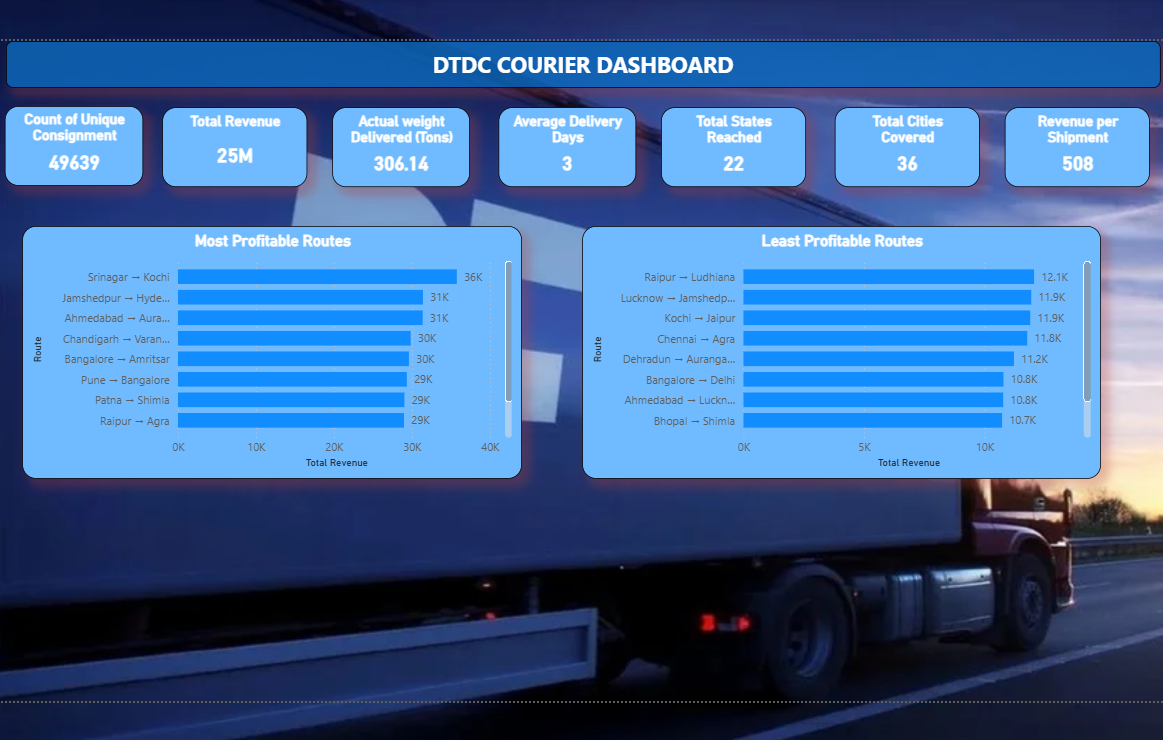

Layout of this report page (visuals, bound fields, positions):
{"tool":"powerbi","page":{"name":"Page 2","canvas":[1280,720],"ordinal":1},"visuals":[{"type":"textbox","box":[10.5,0,1260.8,51],"z":0},{"type":"card","title":"Count of Unique Consignment","fields":{"Values":["CountNonNull(Dataset_Generator_for_DTDC.Consignment No)"]},"box":[9.6,71,151.5,87.4],"z":1000},{"type":"card","title":"Actual weight Delivered (Tons)","fields":{"Values":["Dataset_Generator_for_DTDC.Actual weight in ton"]},"box":[367.2,72.3,150.1,87.4],"z":2000},{"type":"card","title":"Average Delivery Days","fields":{"Values":["Avg(Dataset_Generator_for_DTDC.Delivery Days)"]},"box":[548.7,72.3,150.1,87.4],"z":3000},{"type":"card","title":"Total States Reached","fields":{"Values":["Count(Dataset_Generator_for_DTDC.Sender State)"]},"box":[726.1,72.3,158.3,87.4],"z":4000},{"type":"card","title":"Total Cities Covered","fields":{"Values":["Count(Dataset_Generator_for_DTDC.Sender City)"]},"box":[915.8,72.3,158.3,87.4],"z":5000},{"type":"card","title":"Revenue per Shipment","fields":{"Values":["Dataset_Generator_for_DTDC.Revenue per Shipment"]},"box":[1101.4,72.9,158.6,87.1],"z":6000},{"type":"card","title":"Total Revenue","fields":{"Values":["Dataset_Generator_for_DTDC.Total Revenue"]},"box":[181.5,72.3,158.3,87.4],"z":7000},{"type":"barChart","title":"Most Profitable Routes","fields":{"Category":["Dataset_Generator_for_DTDC.Route"],"Y":["Dataset_Generator_for_DTDC.Total Revenue"]},"box":[28.7,202,546,275.7],"z":8000},{"type":"clusteredBarChart","title":"Least Profitable Routes","fields":{"Category":["Dataset_Generator_for_DTDC.Route"],"Y":["Dataset_Generator_for_DTDC.Total Revenue"]},"box":[640.1,202,566.4,275.7],"z":9000}]}

Visuals, with their boxes in screenshot pixels (x1, y1, x2, y2):
textbox: (0,36,1162,84)
"Count of Unique Consignment" card: (0,102,138,183)
"Actual weight Delivered (Tons)" card: (329,104,468,185)
"Average Delivery Days" card: (498,104,637,185)
"Total States Reached" card: (662,104,809,185)
"Total Cities Covered" card: (839,104,986,185)
"Revenue per Shipment" card: (1011,104,1158,185)
"Total Revenue" card: (156,104,304,185)
"Most Profitable Routes" barChart: (15,224,522,480)
"Least Profitable Routes" clusteredBarChart: (583,224,1109,480)
